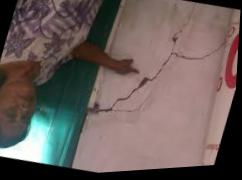crack: (101, 5, 226, 114)
damage: (89, 103, 101, 115)
